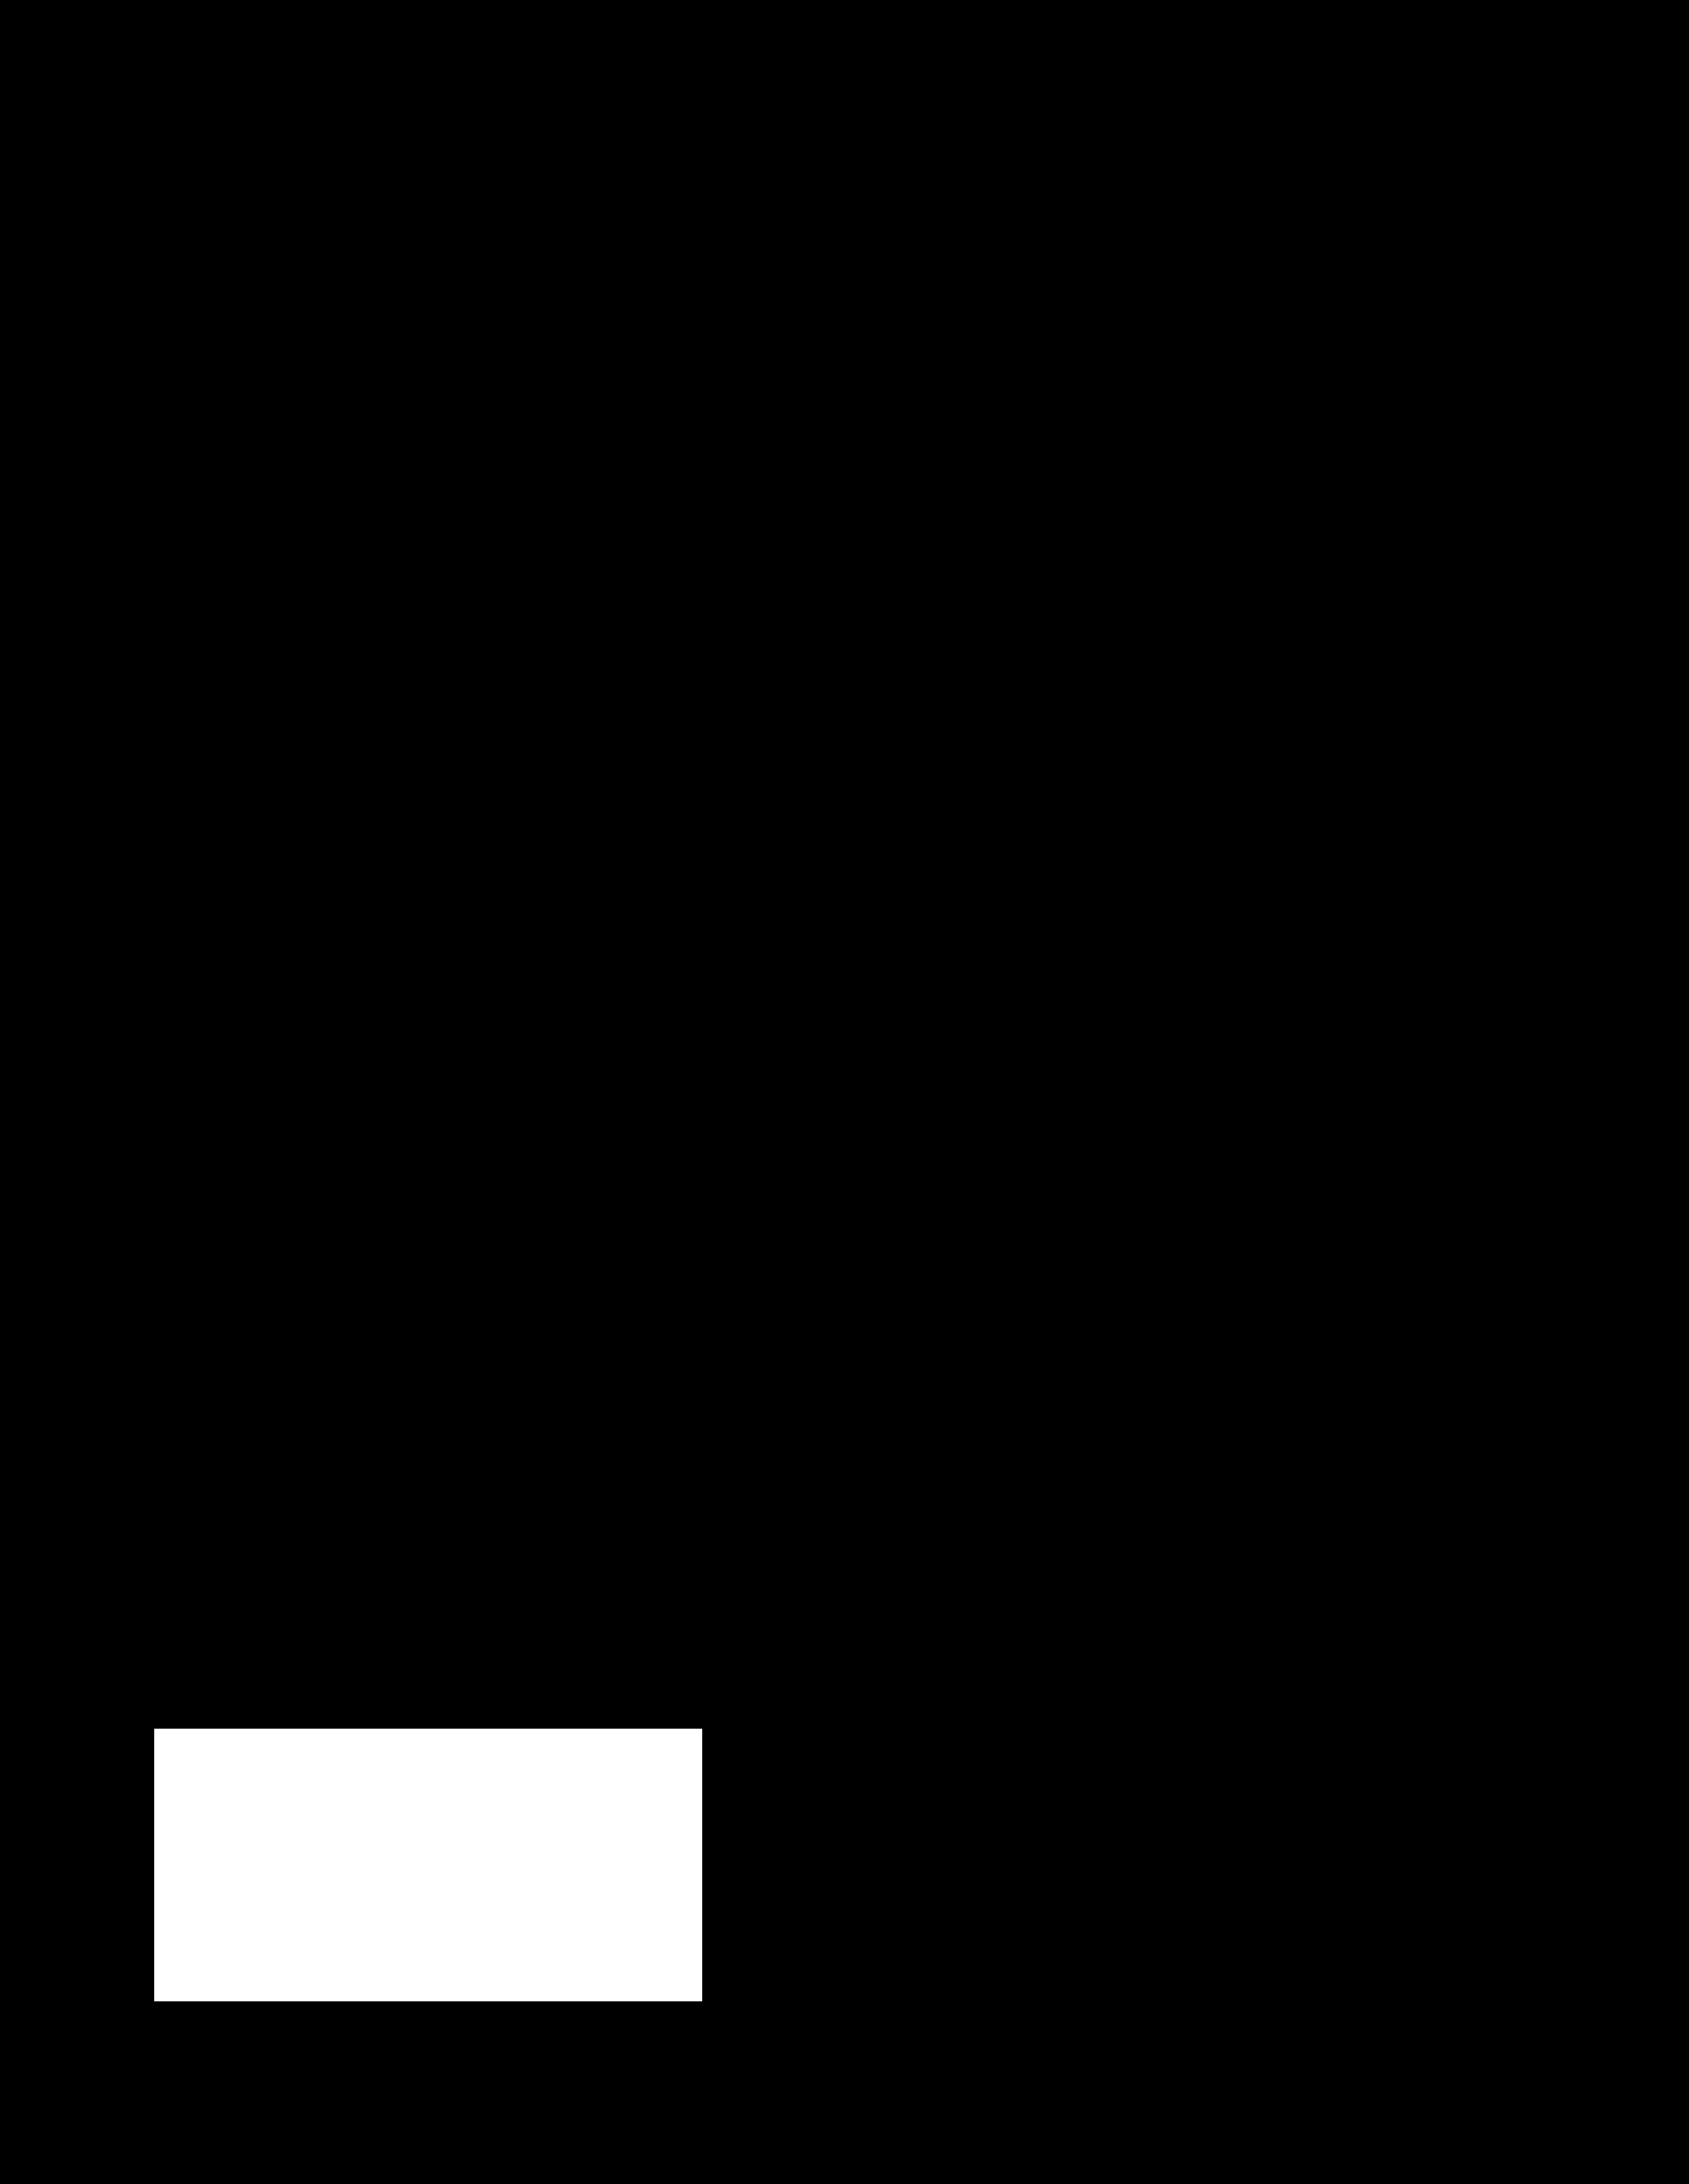table: (154, 1728, 702, 2001)
